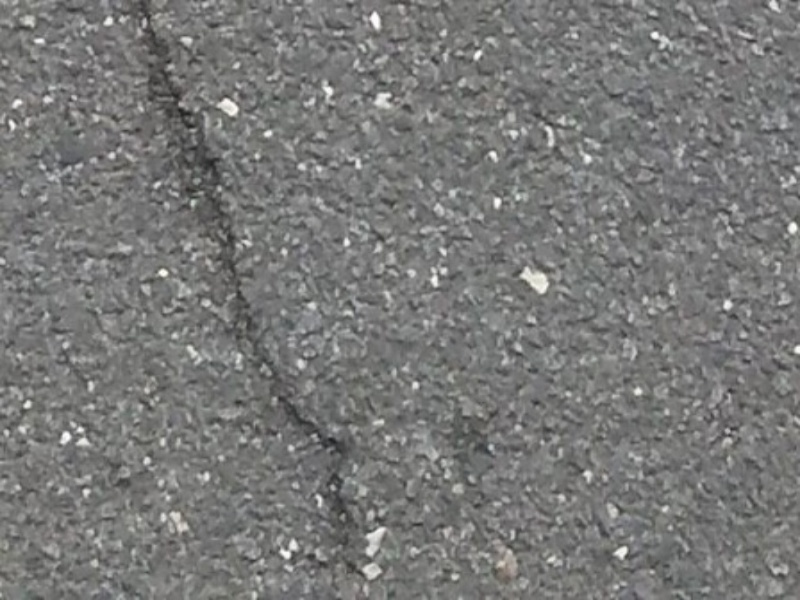crack: (108, 13, 367, 572)
